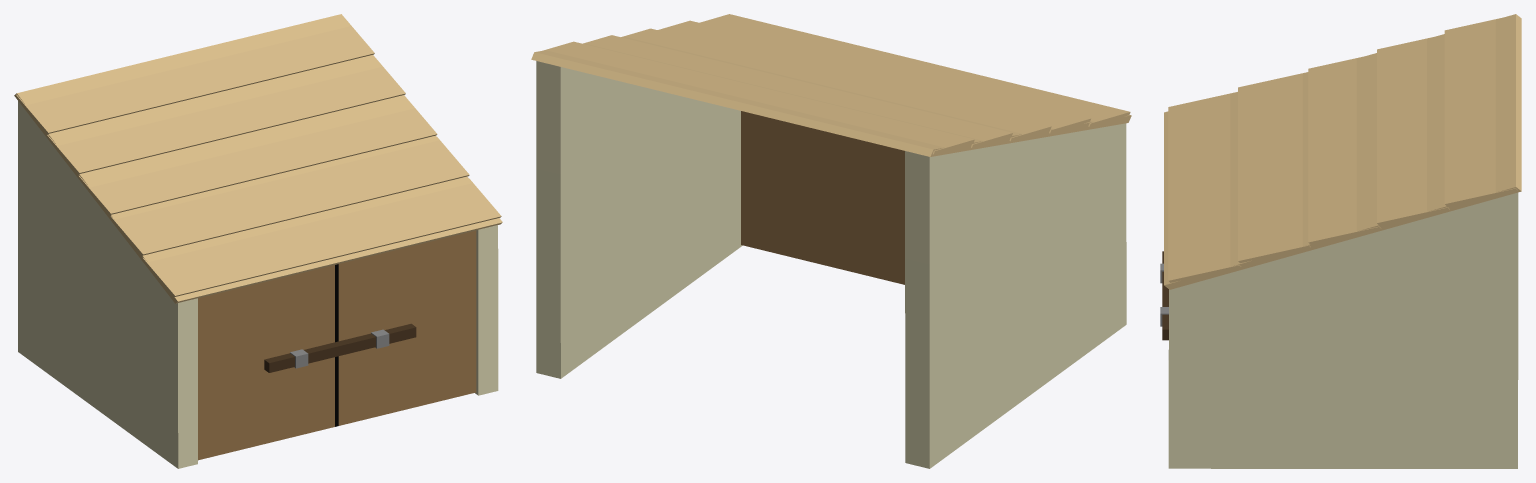
Rendered from galliner.fbx.
The picture shows the model from 3 angles, left to right: view 1: azimuth 30°, elevation 25°; view 2: azimuth 150°, elevation 25°; view 3: azimuth 270°, elevation 25°; orthographic projection. The views are drawn at different scales.
Parts seen in each view (by area): view 1: galliner; view 2: galliner; view 3: galliner.
Boxes of the visible parts, box(x1,y1,x2,y2) form: galliner: box(14, 14, 502, 468); galliner: box(531, 14, 1131, 468); galliner: box(1160, 14, 1521, 468).
Size of the model in its own units: 1130 by 860 by 994.
